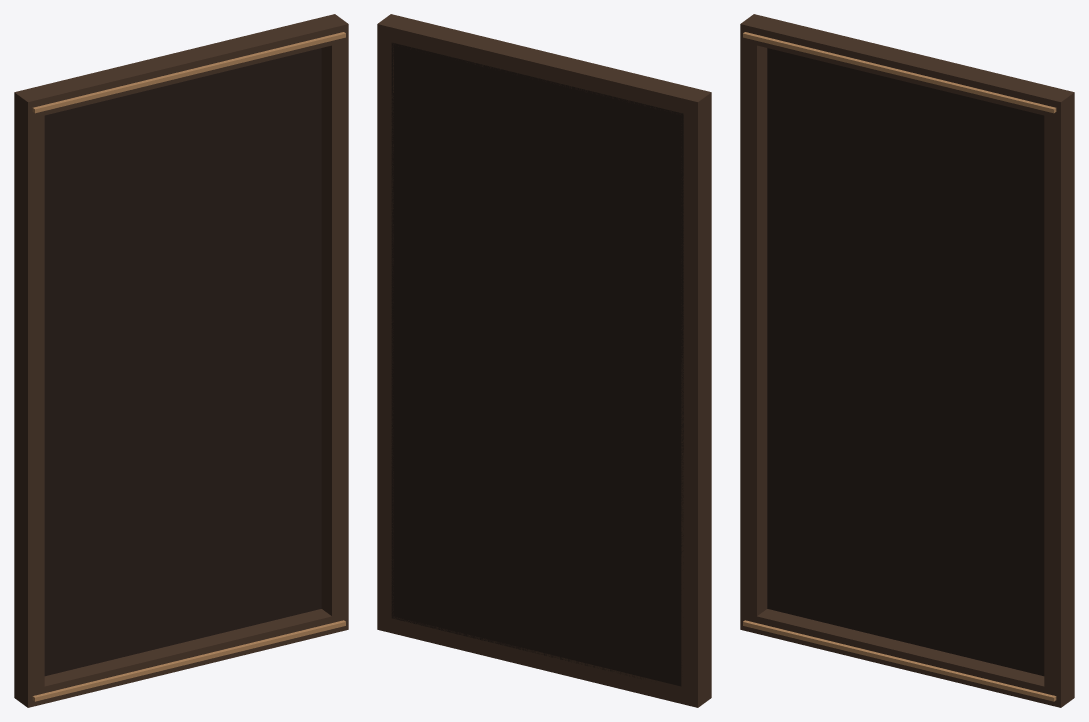
The model's file is mirror_full.glb.
The picture shows the model from 3 angles, left to right: view 1: azimuth 30°, elevation 25°; view 2: azimuth 150°, elevation 25°; view 3: azimuth 330°, elevation 25°; orthographic projection.
Visible parts, largest first — view 1: mirror_full; view 2: mirror_full; view 3: mirror_full.
Part boxes in pixels (x1,y1,x2,y2): mirror_full: [14, 14, 348, 707]; mirror_full: [377, 14, 711, 707]; mirror_full: [740, 14, 1074, 707].
Bounding box in the file's own units: 0.676 × 1.22 × 0.058.
